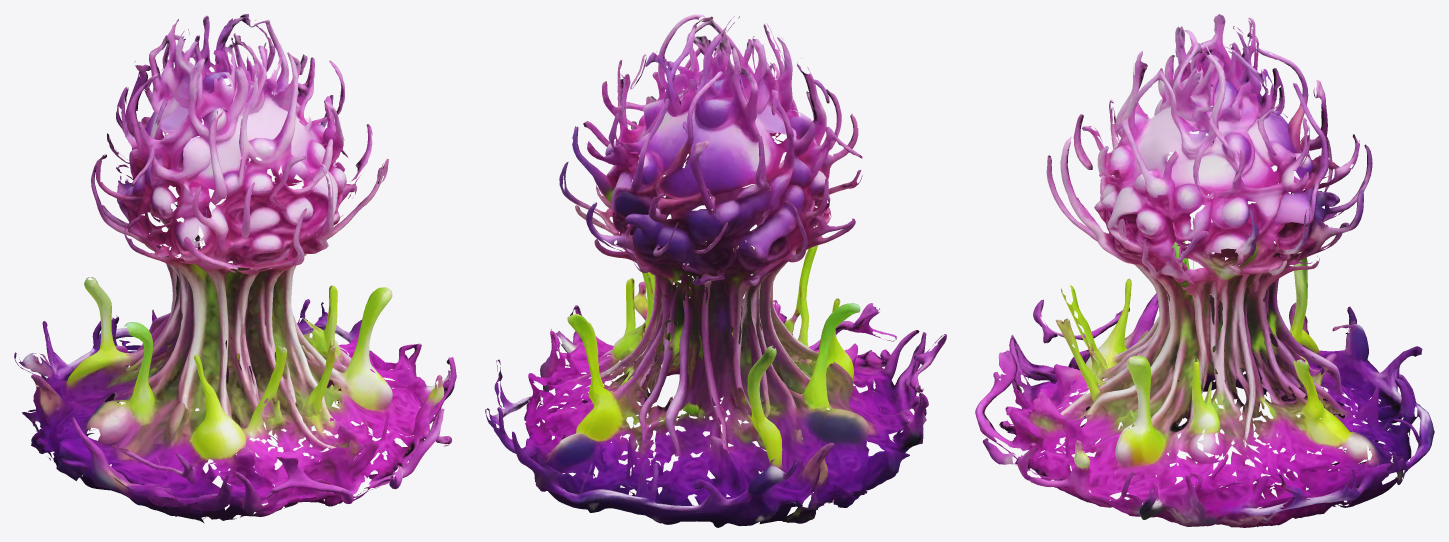
The model's file is prop_spire.glb.
The picture shows the model from 3 angles, left to right: view 1: azimuth 30°, elevation 25°; view 2: azimuth 150°, elevation 25°; view 3: azimuth 270°, elevation 25°; orthographic projection.
Parts seen in each view (by area): view 1: geometry_0.2249; view 2: geometry_0.2249; view 3: geometry_0.2249.
Boxes of the visible parts, x1,y1,x2,y2 form: geometry_0.2249: (14,14,456,523); geometry_0.2249: (485,14,946,527); geometry_0.2249: (975,14,1434,527).
Bounding box in the file's own units: 0.941 × 1.05 × 1.
Materials: 1 (1 with a texture image).
